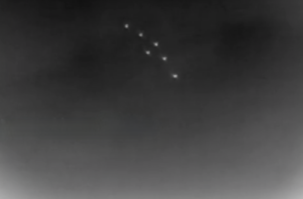Target: (126, 25, 177, 78)
